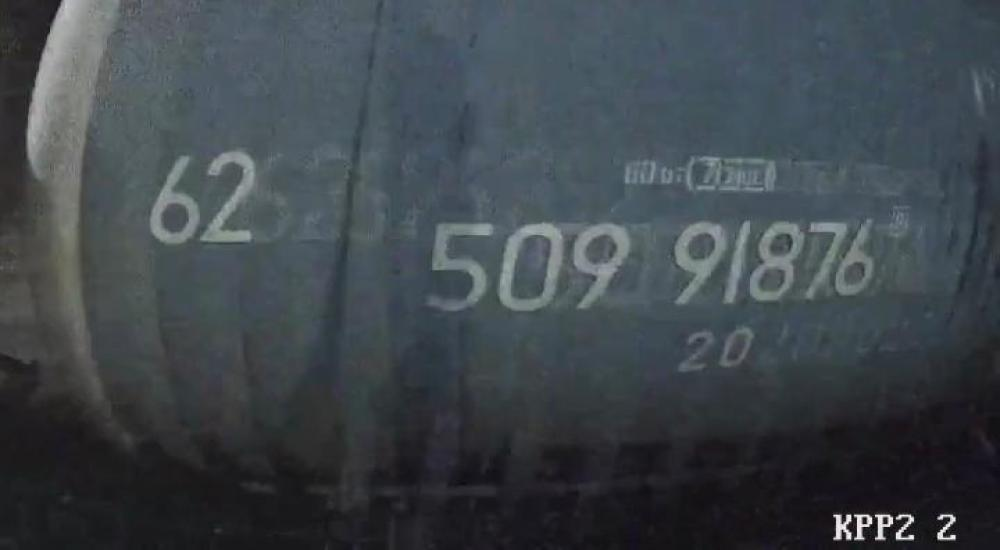Wagon-number: (420, 208, 882, 318)
